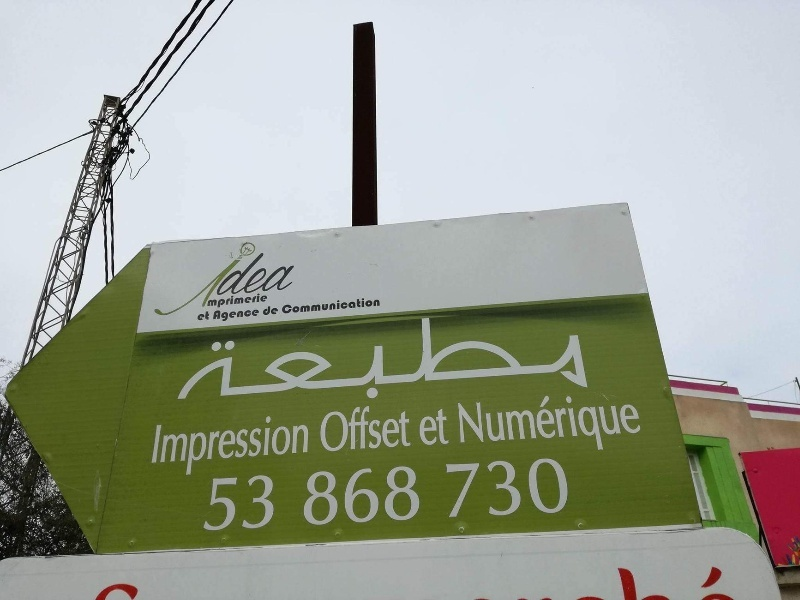text: (193, 303, 208, 408), (209, 303, 224, 408), (225, 303, 240, 408), (241, 303, 256, 408), (257, 303, 272, 408), (273, 303, 288, 408), (289, 303, 304, 408), (305, 303, 320, 408), (321, 303, 336, 408), (337, 303, 352, 408), (353, 303, 368, 408), (369, 303, 384, 408), (385, 303, 400, 408), (401, 303, 416, 408), (417, 303, 432, 408), (433, 303, 448, 408), (449, 303, 464, 408), (465, 303, 480, 408), (481, 303, 496, 408), (497, 303, 512, 408), (513, 303, 528, 408), (529, 303, 544, 408), (545, 303, 560, 408), (561, 303, 576, 408), (178, 303, 192, 408), (577, 303, 589, 408), (193, 247, 208, 321), (209, 247, 224, 321), (225, 247, 240, 321), (241, 247, 256, 321), (257, 247, 272, 321), (273, 247, 288, 321), (465, 390, 480, 457), (481, 390, 496, 457), (497, 390, 512, 457), (513, 390, 528, 457), (529, 390, 544, 457), (545, 390, 560, 457), (561, 390, 576, 457), (577, 390, 592, 457), (593, 390, 608, 457), (609, 390, 624, 457), (625, 390, 640, 457), (449, 455, 464, 521), (465, 455, 480, 521), (481, 455, 496, 521), (497, 455, 512, 521), (513, 455, 528, 521), (529, 455, 544, 521), (545, 455, 560, 521), (289, 247, 302, 321), (321, 464, 336, 527), (337, 464, 352, 527), (353, 464, 368, 527), (369, 464, 384, 527), (385, 464, 400, 527), (401, 464, 416, 527), (161, 415, 176, 477), (177, 415, 192, 477), (193, 415, 208, 477), (209, 415, 224, 477), (225, 415, 240, 477), (241, 415, 256, 477), (257, 415, 272, 477), (273, 415, 288, 477), (289, 415, 304, 477), (225, 475, 240, 532), (241, 475, 256, 532), (257, 475, 272, 532), (307, 464, 320, 527), (210, 475, 224, 532), (321, 406, 336, 454), (337, 406, 352, 454), (353, 406, 368, 454), (369, 406, 384, 454), (385, 406, 400, 454), (433, 405, 448, 450), (561, 455, 570, 521), (401, 406, 413, 454), (420, 405, 432, 450), (456, 390, 464, 457), (185, 247, 192, 321), (305, 415, 311, 477), (641, 390, 646, 457), (417, 464, 422, 527), (289, 297, 304, 315), (305, 297, 320, 315), (321, 297, 336, 315), (337, 297, 352, 315), (353, 297, 368, 315), (209, 292, 224, 310), (225, 292, 240, 310), (241, 292, 256, 310), (156, 415, 160, 477), (273, 475, 277, 532), (369, 297, 381, 315), (257, 292, 269, 310), (225, 310, 240, 323), (241, 310, 256, 323), (213, 310, 224, 323), (446, 455, 448, 521), (282, 297, 288, 315), (198, 312, 208, 322), (449, 405, 451, 450), (263, 307, 272, 316), (273, 307, 279, 316), (319, 406, 320, 454), (257, 310, 260, 323), (209, 312, 210, 322)
